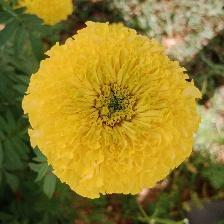marigold: (27, 25, 201, 201)
